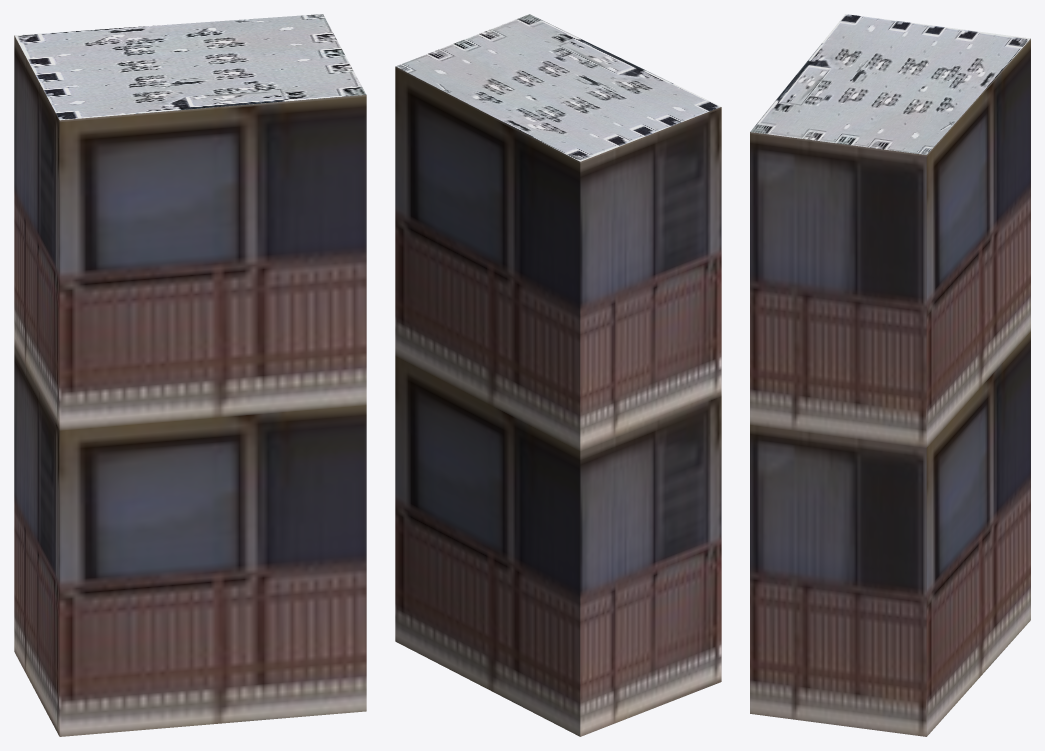
The model's file is ResTex__377.fbx.
3 renders of one model, left to right at view 1: azimuth 30°, elevation 25°; view 2: azimuth 150°, elevation 25°; view 3: azimuth 270°, elevation 25°, orthographic. The views are drawn at different scales.
Visible parts, largest first — view 1: CityEngineMaterial_6_m, CityEngineMaterial_2_m; view 2: CityEngineMaterial_6_m, CityEngineMaterial_2_m; view 3: CityEngineMaterial_6_m, CityEngineMaterial_2_m.
Boxes of the visible parts, x1,y1,x2,y2 form: CityEngineMaterial_6_m: (14,35,366,736); CityEngineMaterial_2_m: (14,14,366,120); CityEngineMaterial_6_m: (395,66,721,736); CityEngineMaterial_2_m: (395,14,720,161); CityEngineMaterial_6_m: (750,39,1030,736); CityEngineMaterial_2_m: (750,14,1030,154).
Bounding box in the file's own units: 3.12 × 6 × 2.62.
2 materials, 2 textured.
